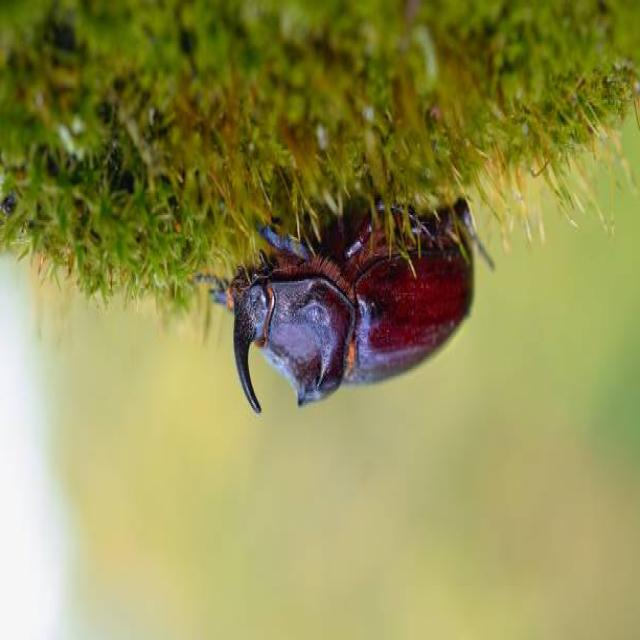Rhino-beetle: (204, 184, 504, 428)
